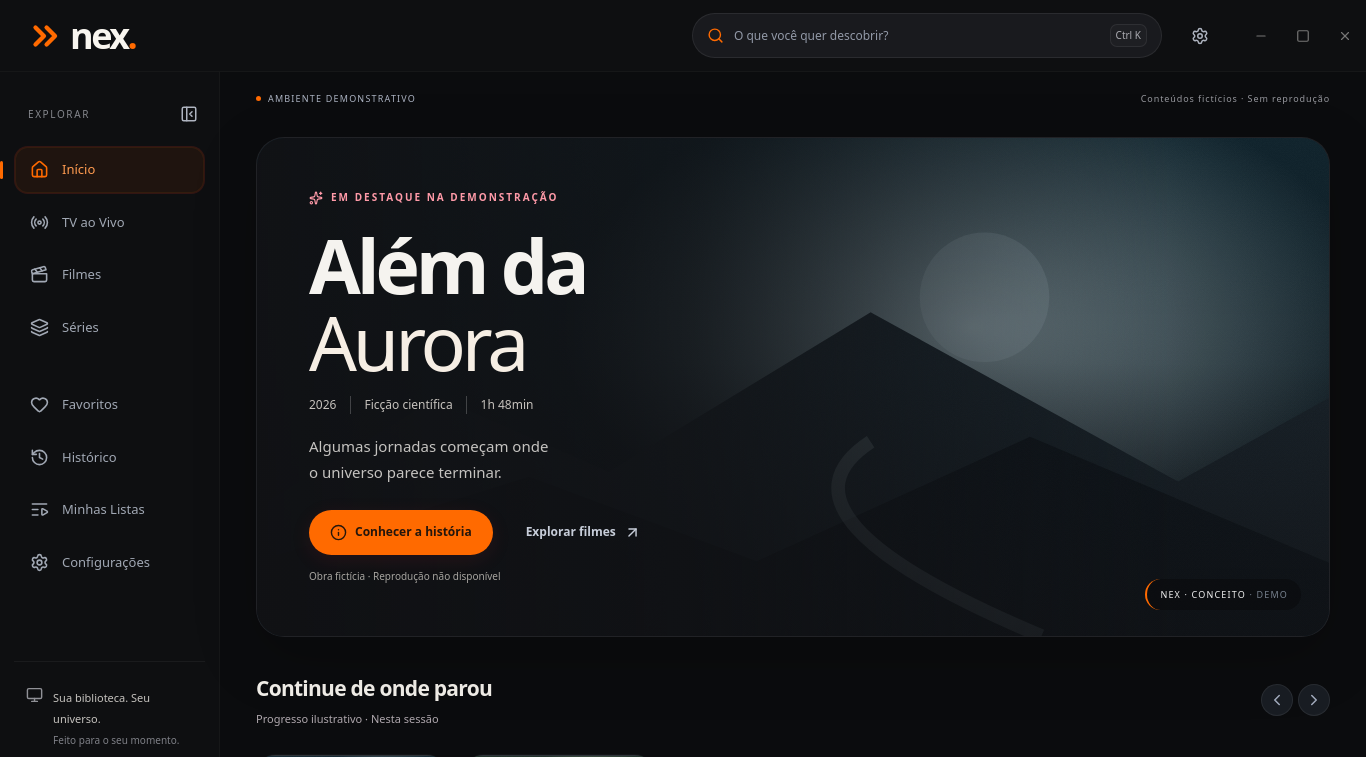
Test case: Fase 2 › mostra busca sem resultados
This screenshot has width=1366, height=757.
Click the button with aria-label "Buscar na biblioteca". click: (811, 35)
box: [692,13,1162,58]
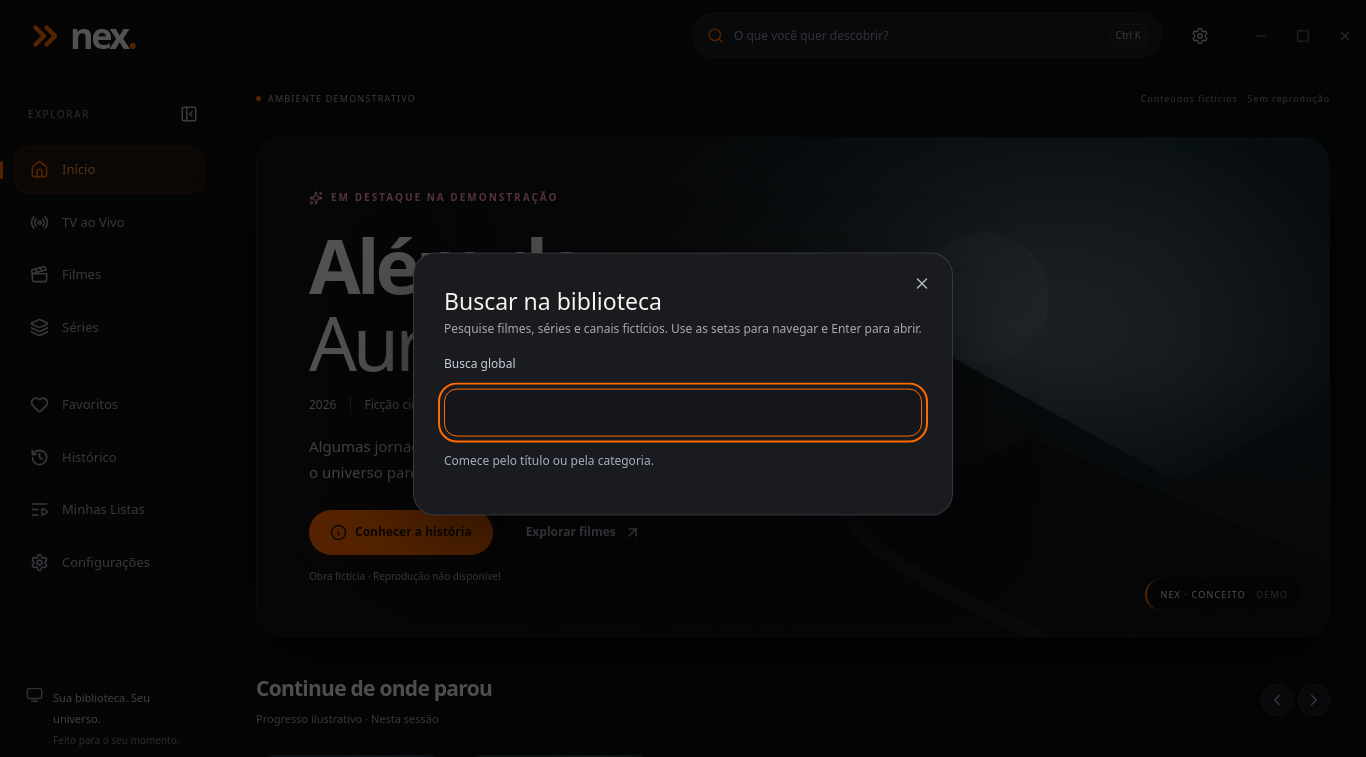
Type "xxxxxxxx" into the search field labelled "Busca global". click: (683, 412)
box: [444,388,922,436]
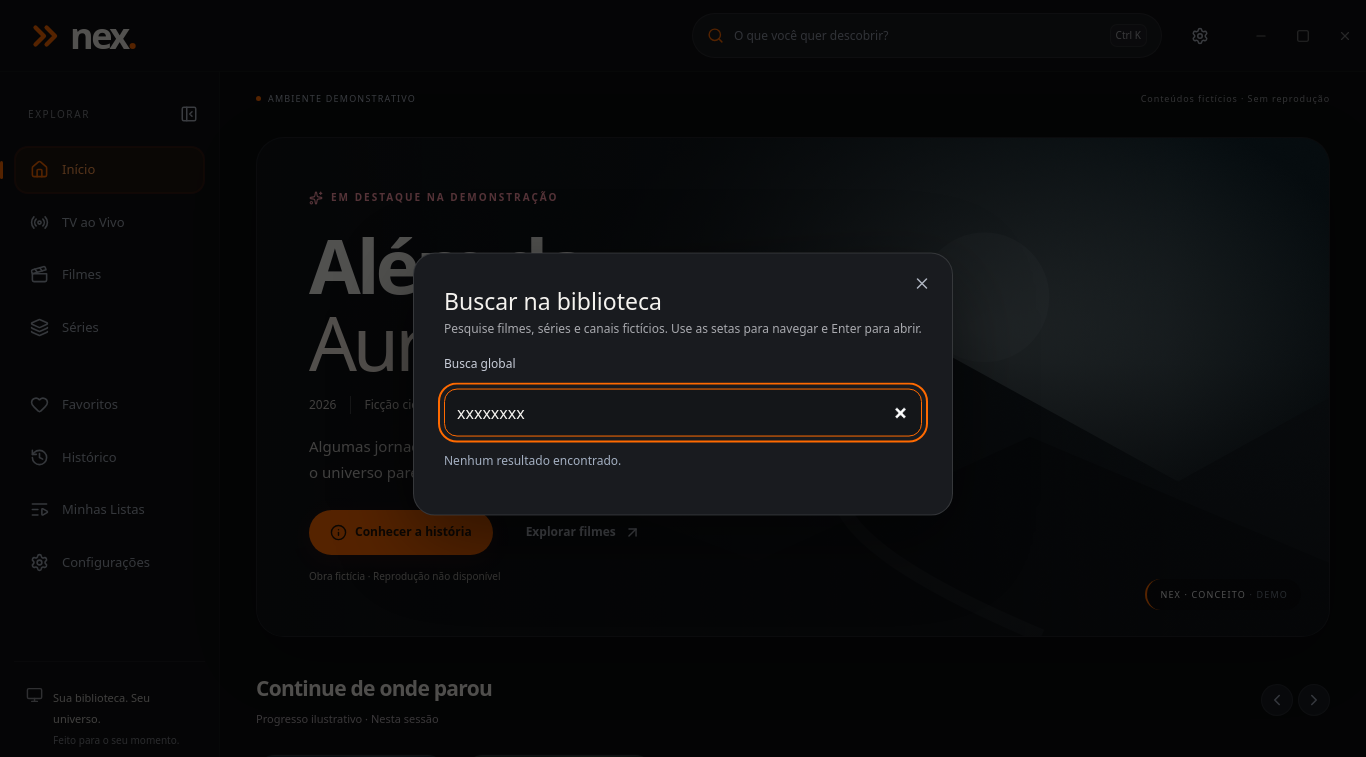
Result: the text "Nenhum resultado encontrado." is shown at [444,451,621,468]
